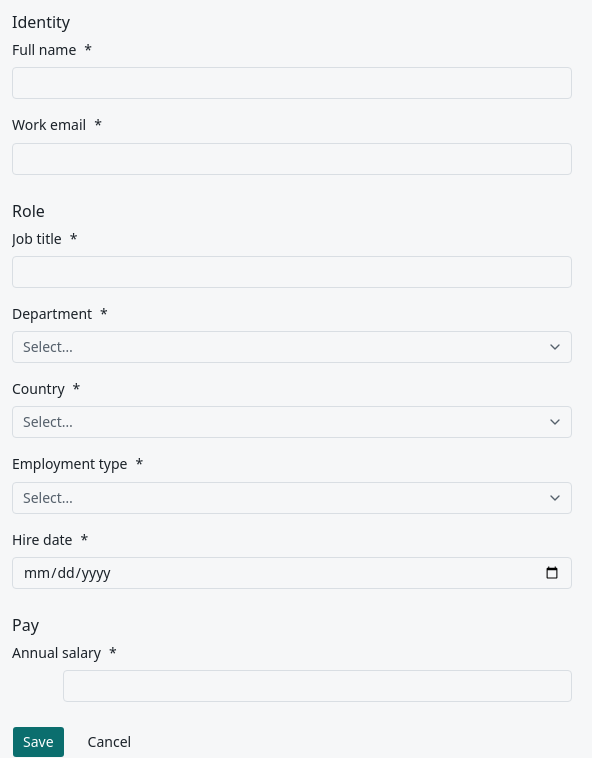
AddEmployeePage › shows the server field errors as text next to each field, with no client-side rules
The width and height of the screenshot is (592, 758).
(page scrolled)
What coordinates should you click on to do the following:
click the button "Save"
I would click on:
 (38, 742)
Its box is [12, 726, 65, 757].
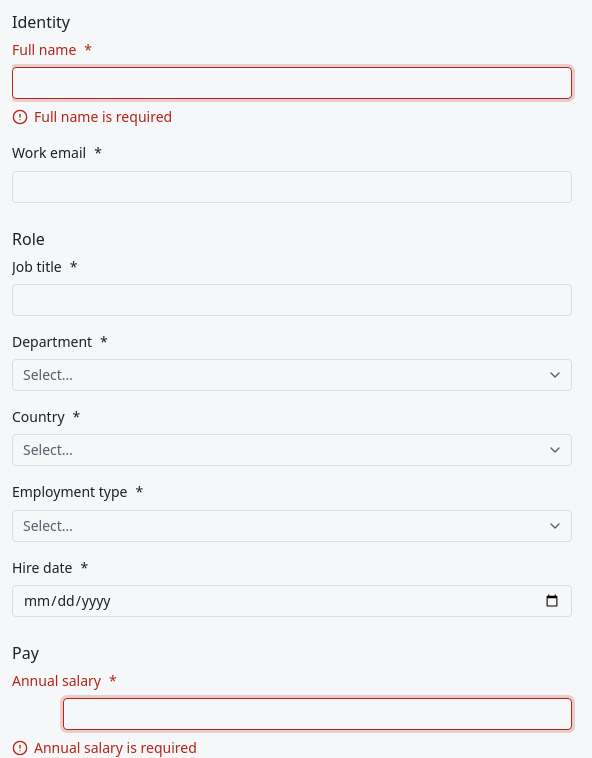
Check: the text "Full name is required" is shown, box [12, 107, 172, 126]
Check: the text "Annual salary is required" is shown, box [12, 738, 197, 757]
